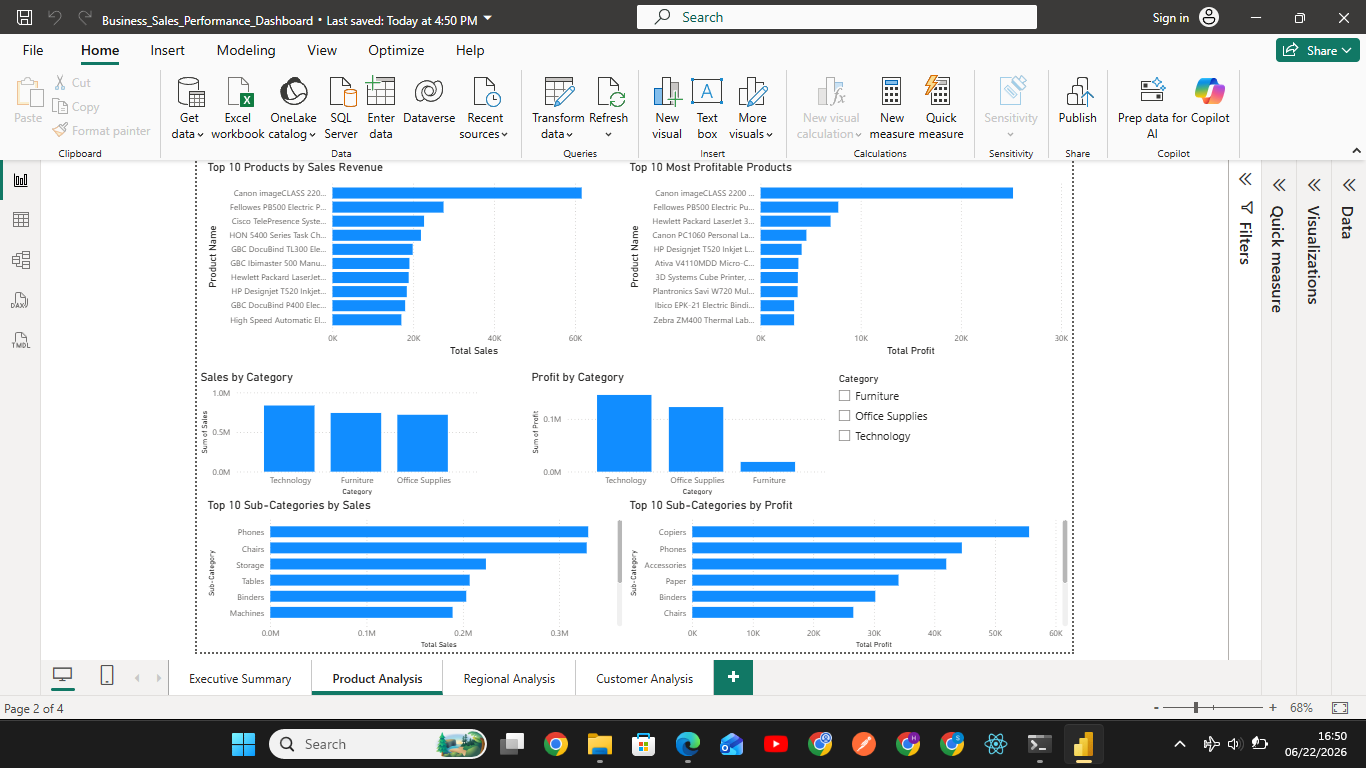

The dashboard page shown, as its layout file describes it:
{"tool":"powerbi","page":{"name":"Product Analysis","canvas":[1280,720],"ordinal":1},"visuals":[{"type":"clusteredBarChart","title":"Top 10 Products by Sales Revenue","fields":{"Category":["cleaned_superstore.Product Name"],"Y":["Sum(cleaned_superstore.Sales)"]},"box":[10.8,0,617.4,292.5],"z":0},{"type":"clusteredBarChart","title":"Top 10 Most Profitable Products","fields":{"Category":["cleaned_superstore.Product Name"],"Y":["Sum(cleaned_superstore.Profit)"]},"box":[628.3,0,651.7,292.5],"z":1000},{"type":"clusteredColumnChart","title":"Sales by Category","fields":{"Category":["cleaned_superstore.Category"],"Y":["Sum(cleaned_superstore.Sales)"]},"box":[0,306.9,415.2,187.8],"z":2000},{"type":"clusteredColumnChart","title":"Profit by Category","fields":{"Y":["Sum(cleaned_superstore.Profit)"],"Category":["cleaned_superstore.Category"]},"box":[483.8,306.9,442.3,187.8],"z":3000},{"type":"slicer","fields":{"Values":["cleaned_superstore.Category"]},"box":[926.3,307.3,326.3,122.9],"z":4000},{"type":"clusteredBarChart","title":"Top 10 Sub-Categories by Sales","fields":{"Category":["cleaned_superstore.Sub-Category"],"Y":["Sum(cleaned_superstore.Sales)"]},"box":[10.8,494.7,617.4,225.7],"z":5000},{"type":"clusteredBarChart","title":"Top 10 Sub-Categories by Profit","fields":{"Category":["cleaned_superstore.Sub-Category"],"Y":["Sum(cleaned_superstore.Profit)"]},"box":[628.3,494.7,651.7,225.7],"z":6000}]}

Visuals, with their boxes on the page's 1280x720 design canvas (x1, y1, x2, y2). These are canvas units, not pixel positions in the 1366x768 screenshot, which may show the page scaled, cropped or inside an application window:
"Top 10 Products by Sales Revenue" clusteredBarChart: (11,0,628,292)
"Top 10 Most Profitable Products" clusteredBarChart: (628,0,1280,292)
"Sales by Category" clusteredColumnChart: (0,307,415,495)
"Profit by Category" clusteredColumnChart: (484,307,926,495)
slicer - cleaned_superstore.Category: (926,307,1253,430)
"Top 10 Sub-Categories by Sales" clusteredBarChart: (11,495,628,720)
"Top 10 Sub-Categories by Profit" clusteredBarChart: (628,495,1280,720)
